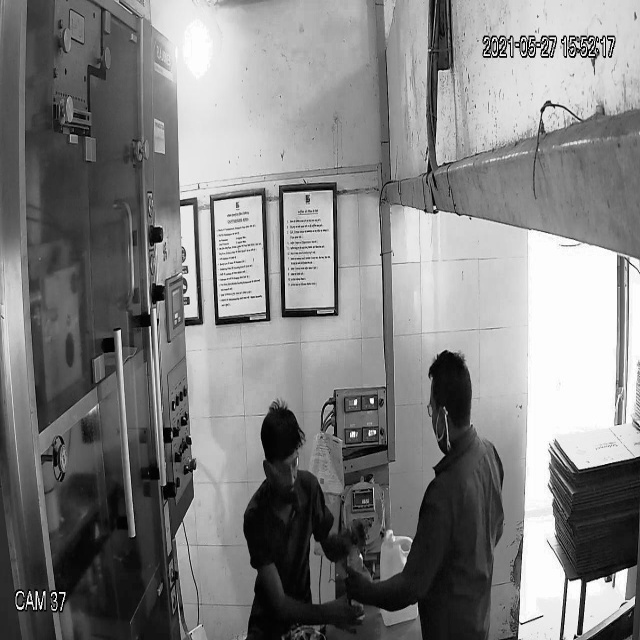Gafas: (259, 452, 302, 478)
